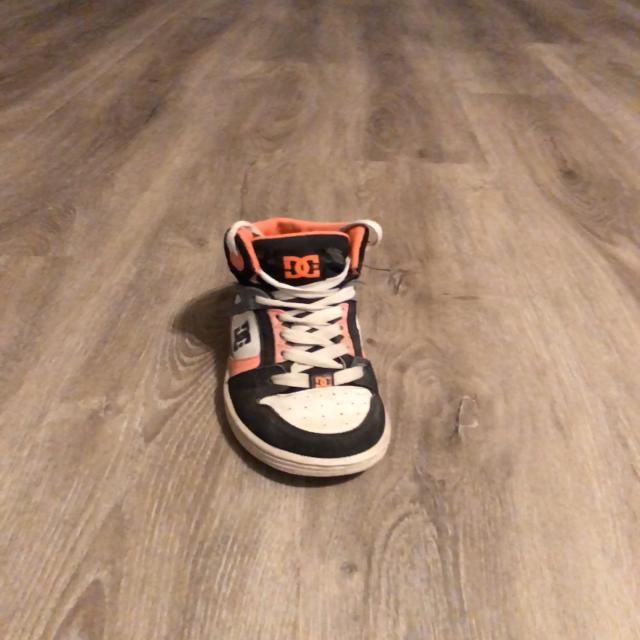shoe: (180, 219, 391, 488)
